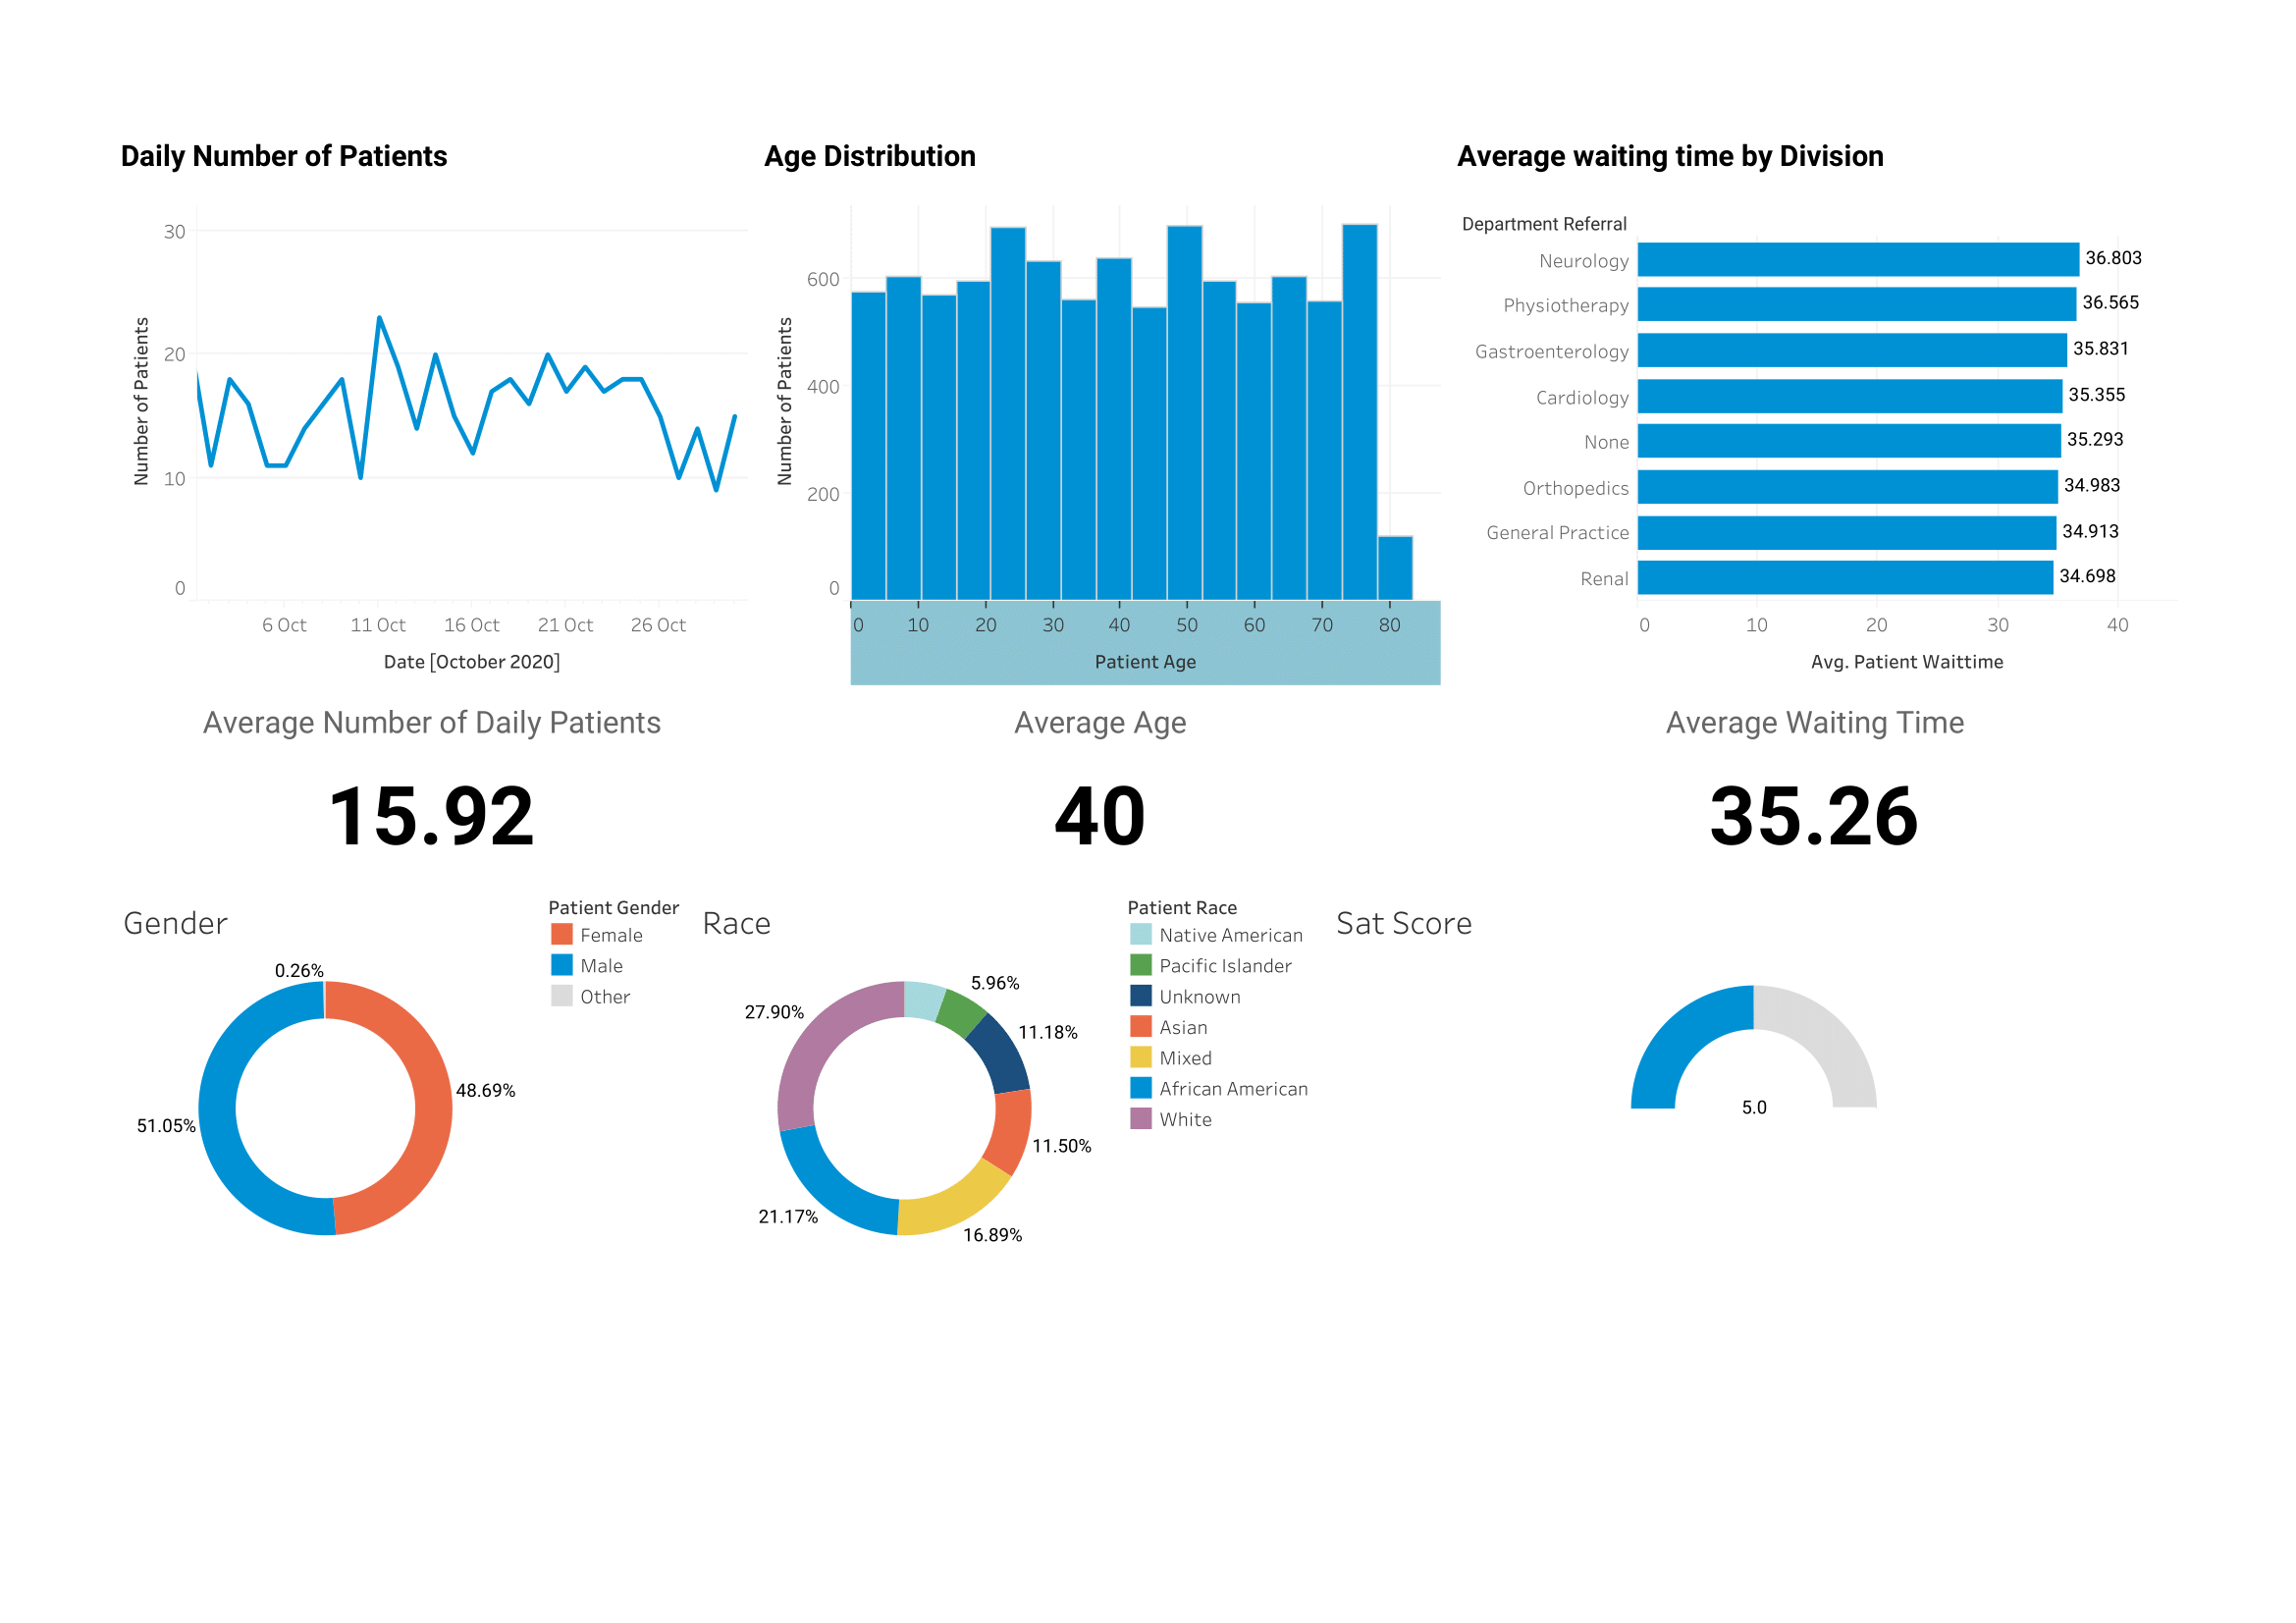

This screenshot's page, from the dashboard's own definition file:
{"tool":"tableau","page":{"name":"Dashboard 1","canvas":[1366,768],"ordinal":0},"visuals":[{"type":"worksheet","box":[0,0,1366,768]},{"type":"worksheet","param":"horz","box":[8,8,1350,752]},{"type":"worksheet","param":"horz","box":[8,8,1350,752]},{"type":"worksheet","param":"horz","box":[8,8,1350,752]},{"type":"worksheet","param":"horz","box":[8,8,1350,752]},{"type":"worksheet","box":[8,8,1350,752]},{"type":"worksheet","box":[8,8,419,58]},{"type":"worksheet","box":[427,8,451,58]},{"type":"worksheet","box":[878,8,480,58]},{"type":"worksheet","title":"ER Patients","mark":"Automatic","rows":["Hospital ER.csv_80360A4E4F324F36975BBB06E9E0C15A"],"cols":["date"],"box":[8,66,419,320]},{"type":"worksheet","title":"Age Distribution","mark":"Automatic","rows":["patient_age"],"cols":["Patient Age (bin)"],"box":[427,66,451,320]},{"type":"worksheet","title":"Average Wait Time by Department","mark":"Bar","rows":["department_referral"],"cols":["patient_waittime"],"box":[878,66,480,320]},{"type":"worksheet","box":[8,386,419,39]},{"type":"worksheet","box":[427,386,451,39]},{"type":"worksheet","box":[878,386,480,39]},{"type":"worksheet","title":"Average Daily Number of Patients","mark":"Automatic","box":[8,425,419,87.3]},{"type":"worksheet","title":"Average Age","mark":"Automatic","box":[427,425,451,87.3]},{"type":"worksheet","title":"Average Wait Time","mark":"Automatic","box":[878,425,480,87.3]},{"type":"worksheet","title":"Gender","mark":"Pie","rows":["Calculation_662029206407057411","Calculation_662029206407151623"],"box":[8,512.3,280,247.7]},{"type":"worksheet","title":"Gender","mark":"Pie","rows":["Calculation_662029206407057411","Calculation_662029206407151623"],"param":"[federated.1ub8psw03t4csd1826fvy1rfu6n1].[none:patient_gender:nk]","box":[288,512.3,97,247.7]},{"type":"worksheet","title":"Race","mark":"Pie","rows":["Calculation_662029206407057411","Calculation_662029206407151623"],"box":[385,512.3,280,247.7]},{"type":"worksheet","title":"Race","mark":"Pie","rows":["Calculation_662029206407057411","Calculation_662029206407151623"],"param":"[federated.1ub8psw03t4csd1826fvy1rfu6n1].[none:patient_race:nk]","box":[665,512.3,133,247.7]},{"type":"worksheet","title":"Sat Score","mark":"Pie","rows":["Calculation_662029206426918989","Calculation_662029206407151623"],"box":[798,512.3,560,247.7]}]}

Visuals, with their boxes on the page's 1366x768 design canvas (x1, y1, x2, y2). These are canvas units, not pixel positions in the 2296x1623 screenshot, which may show the page scaled, cropped or inside an application window:
worksheet: (0, 0, 1366, 768)
worksheet: (8, 8, 1358, 760)
worksheet: (8, 8, 1358, 760)
worksheet: (8, 8, 1358, 760)
worksheet: (8, 8, 1358, 760)
worksheet: (8, 8, 1358, 760)
worksheet: (8, 8, 427, 66)
worksheet: (427, 8, 878, 66)
worksheet: (878, 8, 1358, 66)
"ER Patients" worksheet: (8, 66, 427, 386)
"Age Distribution" worksheet: (427, 66, 878, 386)
"Average Wait Time by Department" worksheet (Bar marks): (878, 66, 1358, 386)
worksheet: (8, 386, 427, 425)
worksheet: (427, 386, 878, 425)
worksheet: (878, 386, 1358, 425)
"Average Daily Number of Patients" worksheet: (8, 425, 427, 512)
"Average Age" worksheet: (427, 425, 878, 512)
"Average Wait Time" worksheet: (878, 425, 1358, 512)
"Gender" worksheet (Pie marks): (8, 512, 288, 760)
"Gender" worksheet (Pie marks): (288, 512, 385, 760)
"Race" worksheet (Pie marks): (385, 512, 665, 760)
"Race" worksheet (Pie marks): (665, 512, 798, 760)
"Sat Score" worksheet (Pie marks): (798, 512, 1358, 760)
